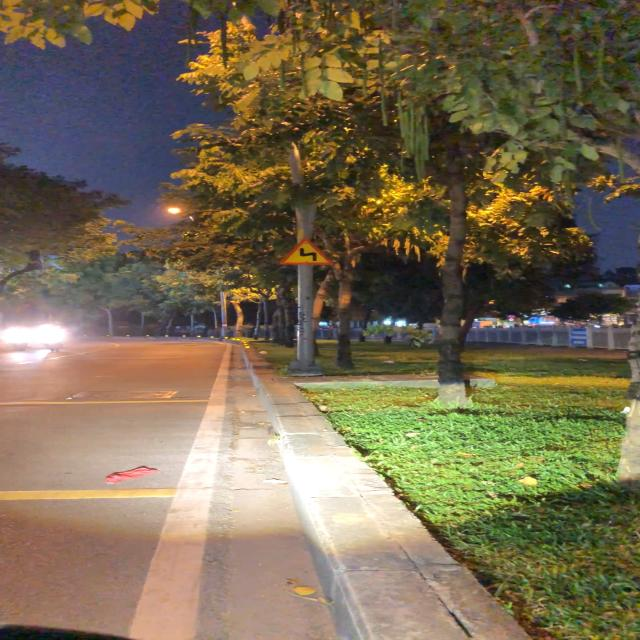Bien bao nhieu cho ngoat nguy hiem lien tiep: (274, 238, 338, 267)
